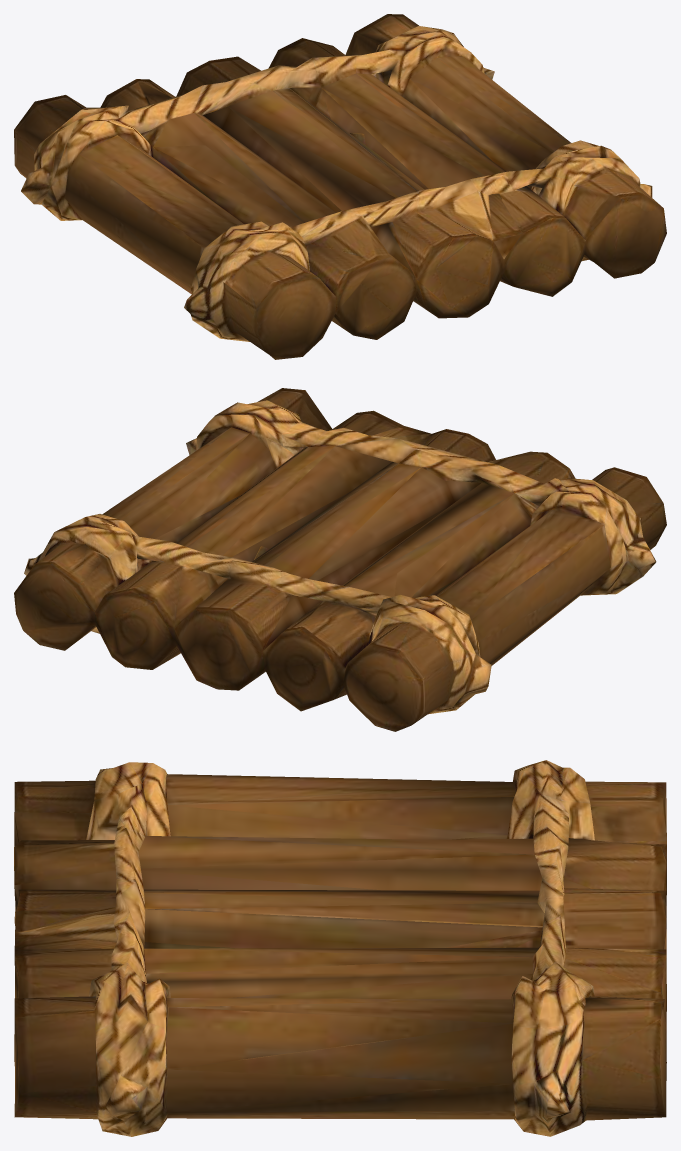
The model's file is raft_v1.glb.
3 views of the same model, one above another, from view 1: azimuth 30°, elevation 25°; view 2: azimuth 150°, elevation 25°; view 3: azimuth 270°, elevation 25° (orthographic). The views are drawn at different scales.
Bounding box in the file's own units: 1.91 × 0.3926 × 1.74.
1 material, 1 textured.
